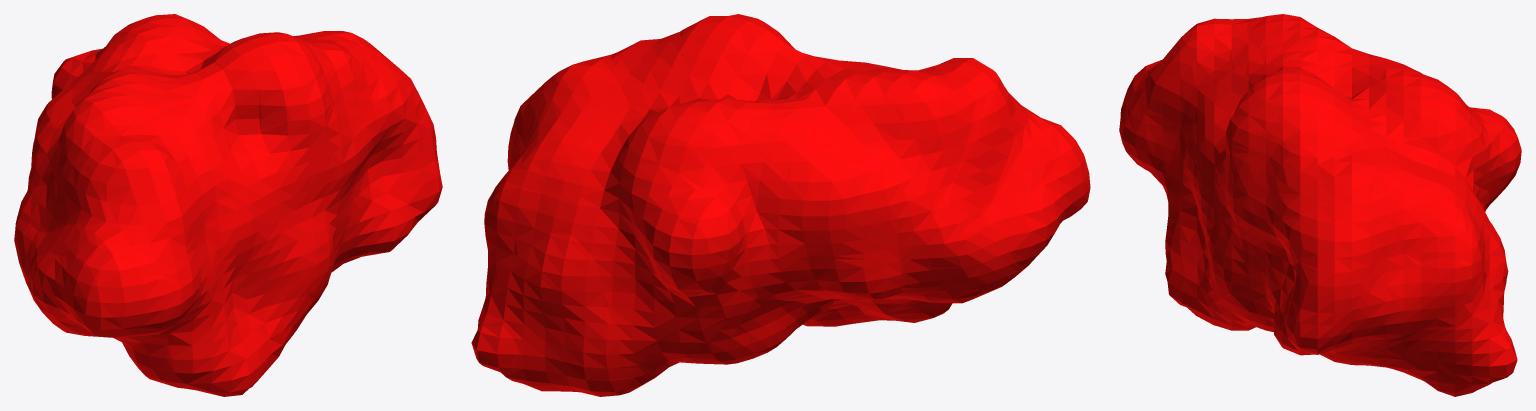
The model's file is queF_coarse.dae.
3 renders of one model, left to right at view 1: azimuth 30°, elevation 25°; view 2: azimuth 150°, elevation 25°; view 3: azimuth 270°, elevation 25°, orthographic. The views are drawn at different scales.
Parts seen in each view (by area): view 1: queF; view 2: queF; view 3: queF.
Part boxes in pixels (x1,y1,x2,y2): queF: (14, 14, 442, 396); queF: (471, 14, 1090, 396); queF: (1119, 14, 1521, 396).
Bounding box in the file's own units: 64.5 × 41.31 × 54.37.
